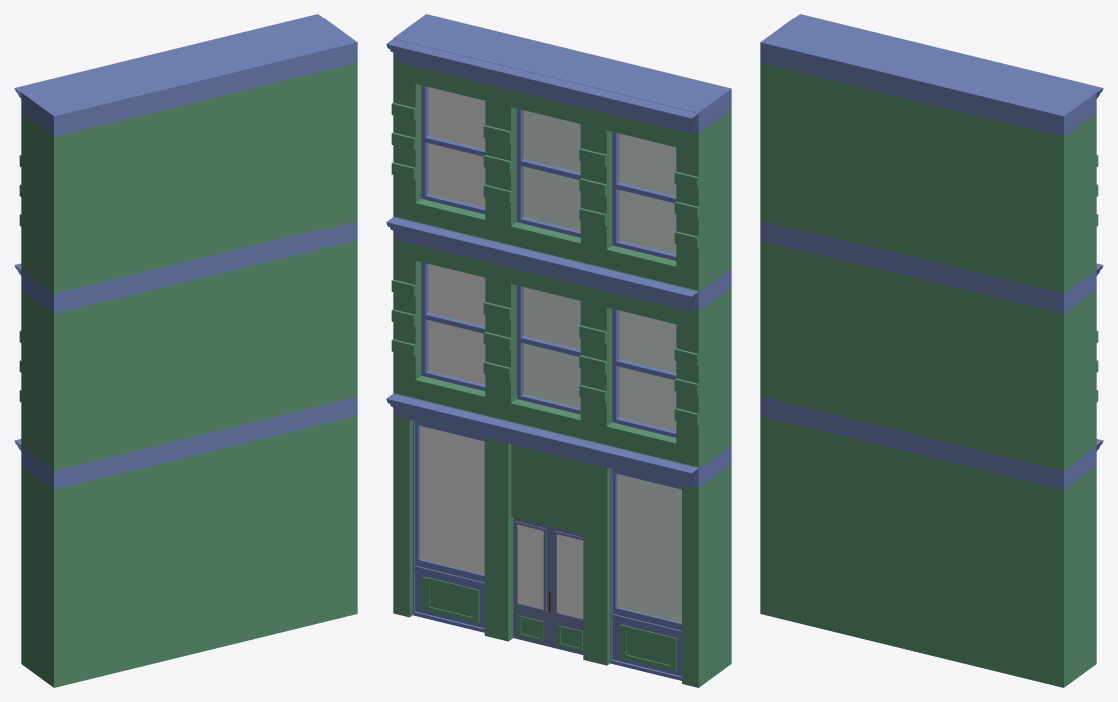
The picture shows the model from 3 angles, left to right: view 1: azimuth 30°, elevation 25°; view 2: azimuth 150°, elevation 25°; view 3: azimuth 330°, elevation 25°; orthographic projection.
Visible parts, largest first — view 1: Facade010; view 2: Facade010; view 3: Facade010.
Boxes of the visible parts, left/top/right/bottom form: Facade010: left=14, top=14, right=357, bottom=687; Facade010: left=386, top=14, right=731, bottom=687; Facade010: left=760, top=14, right=1103, bottom=687.
Bounding box in the file's own units: 315 × 567 × 71.46.
